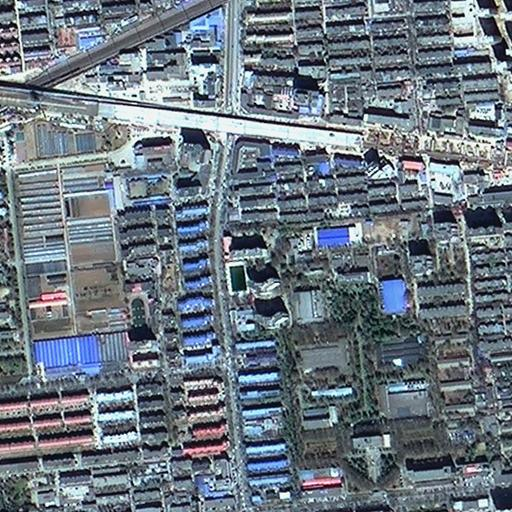school: (124, 279, 161, 335), (227, 137, 274, 181)
